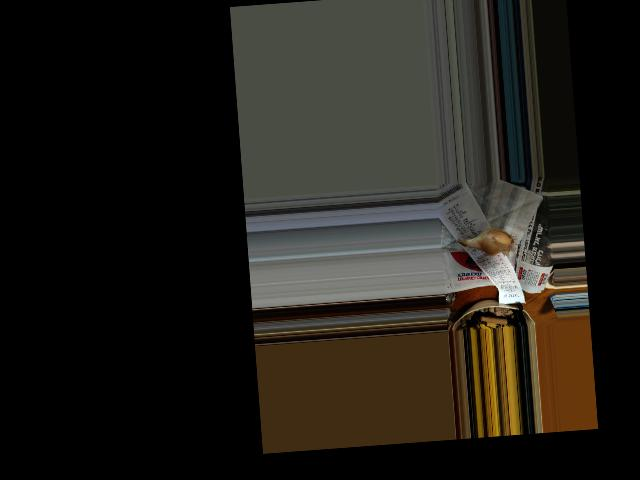onion: (476, 229, 512, 255)
